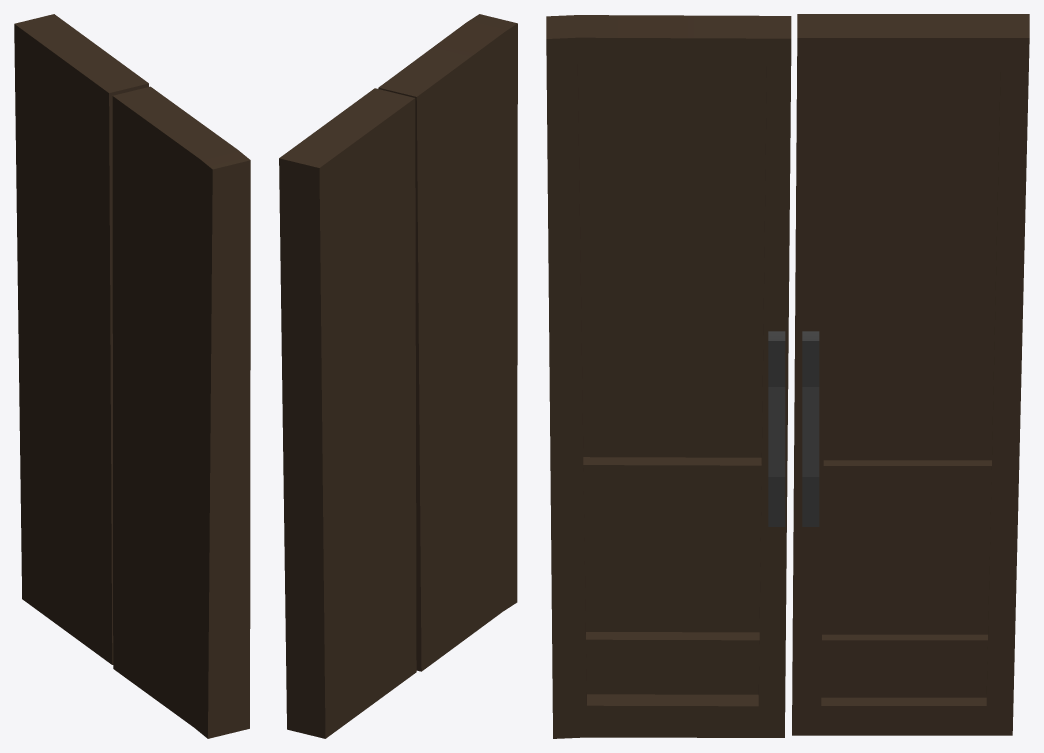
The model's file is DoubleDoor.fbx.
The picture shows the model from 3 angles, left to right: view 1: azimuth 30°, elevation 25°; view 2: azimuth 150°, elevation 25°; view 3: azimuth 270°, elevation 25°; orthographic projection. The views are drawn at different scales.
Parts seen in each view (by area): view 1: Cube.173; view 2: Cube.173; view 3: Cube.173.
Boxes of the visible parts, x1,y1,x2,y2 form: Cube.173: [14, 14, 250, 738]; Cube.173: [279, 14, 517, 738]; Cube.173: [546, 14, 1029, 738].
Bounding box in the file's own units: 15.91 × 131 × 81.86.
